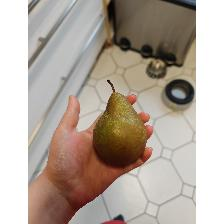Birne: (92, 78, 148, 168)
